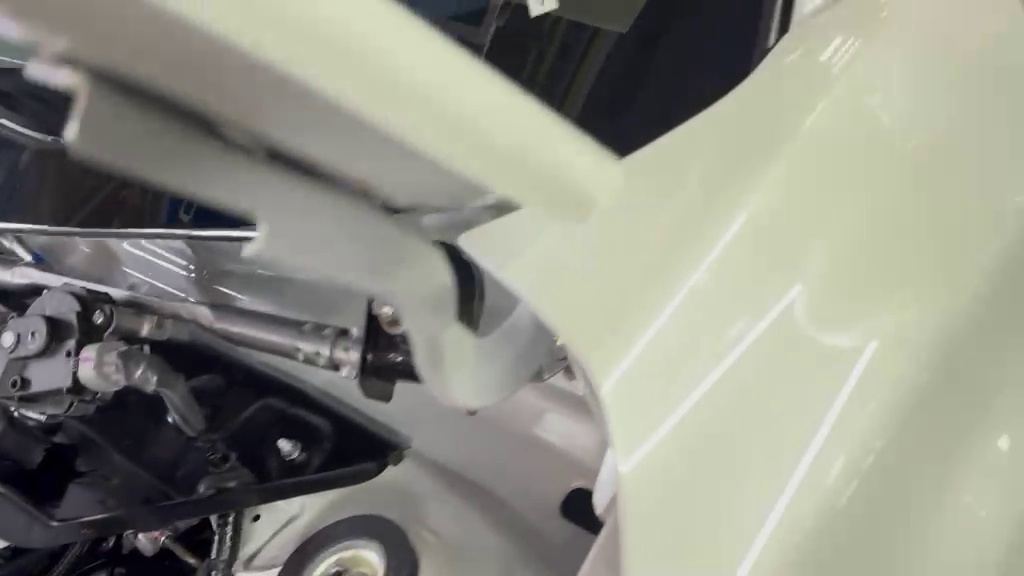barcode: (336, 230, 518, 410)
